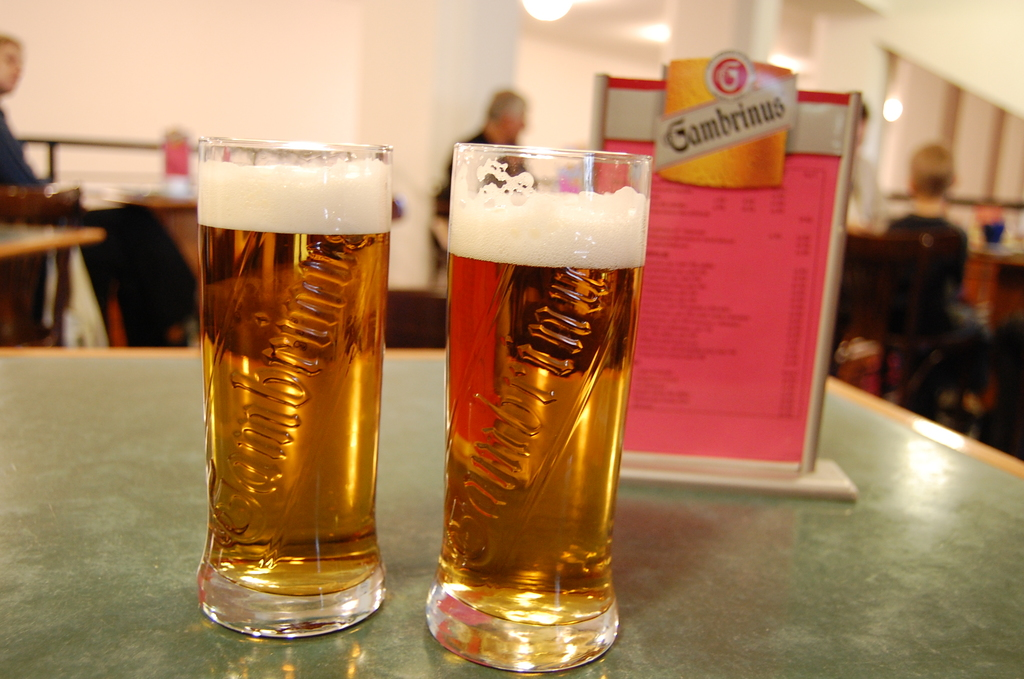Beer: (428, 193, 631, 616), (208, 171, 382, 595)
